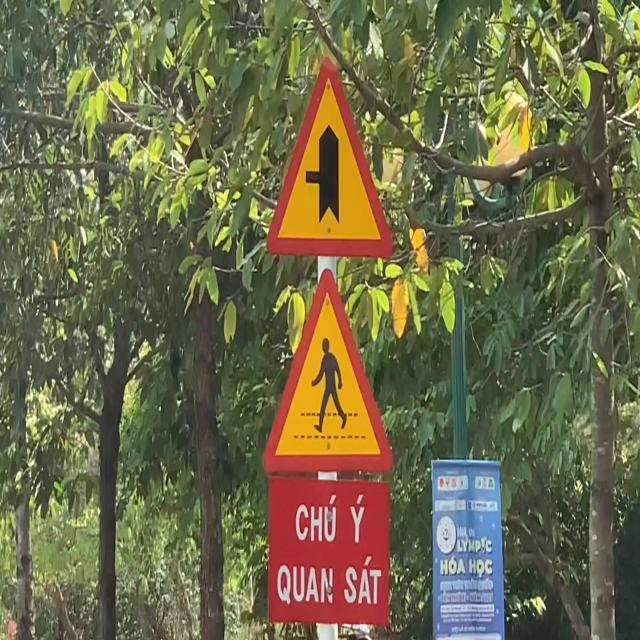Giao voi duong khong uu tien: (265, 53, 395, 260)
Nguoi di bo cat ngang: (259, 264, 396, 476)
